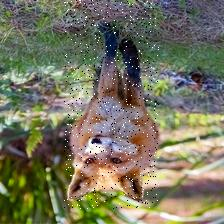fox: (64, 0, 159, 209)
